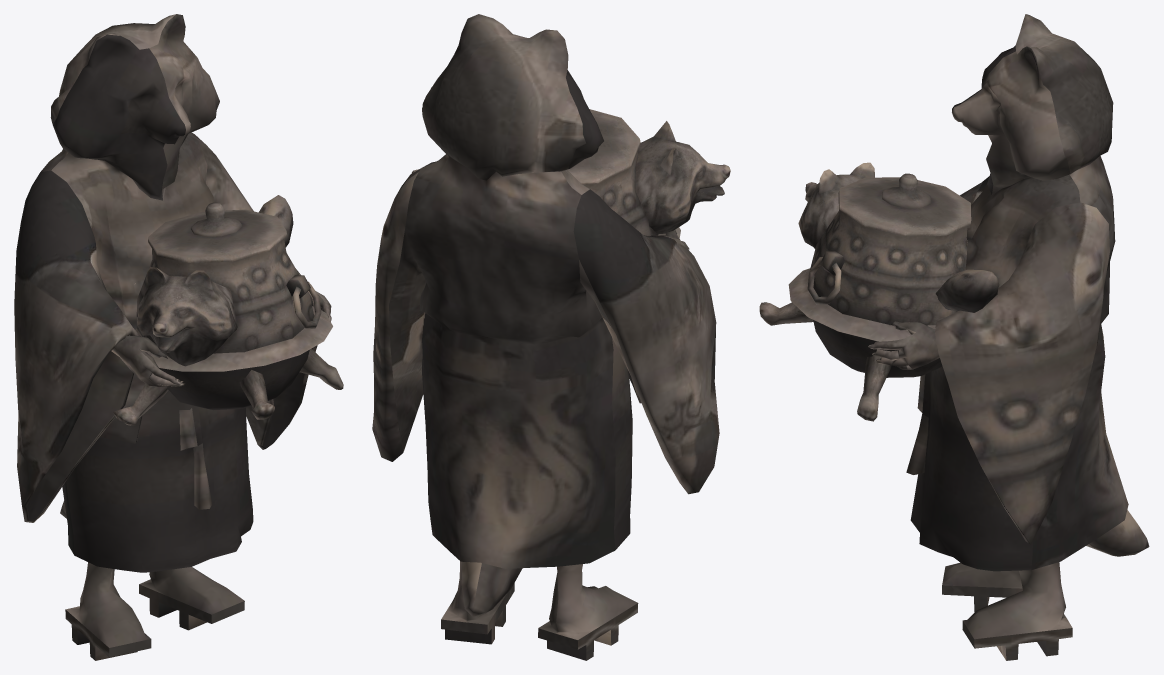
The model's file is 282-tanuki.glb.
3 renders of one model, left to right at view 1: azimuth 30°, elevation 25°; view 2: azimuth 150°, elevation 25°; view 3: azimuth 270°, elevation 25°, orthographic. The views are drawn at different scales.
Bounding box in the file's own units: 0.8079 × 1.53 × 0.9059.
Materials: 1 (1 with a texture image).
